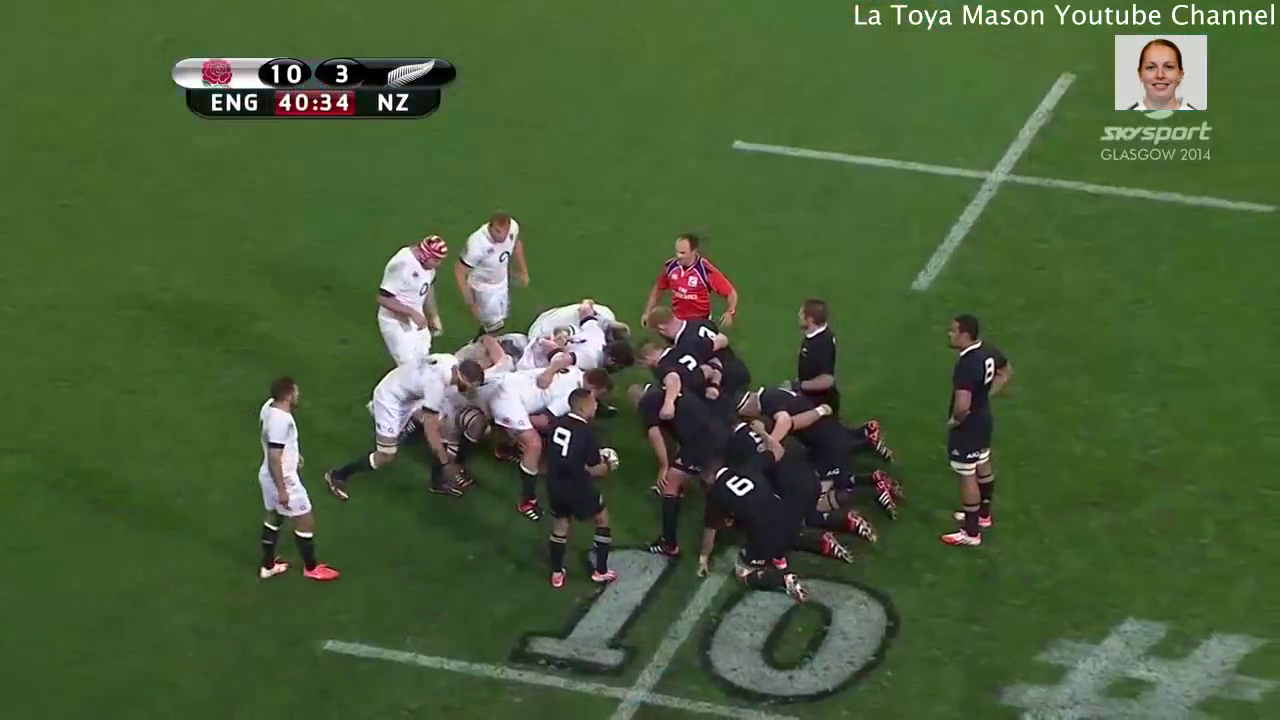10_metre: (702, 53, 1280, 312), (318, 532, 948, 720)
ball: (587, 436, 630, 484)
player: (316, 337, 487, 508), (456, 355, 612, 524), (238, 368, 348, 590), (930, 310, 1022, 557), (527, 378, 631, 592), (685, 452, 813, 606), (613, 372, 724, 548), (365, 229, 453, 381), (771, 284, 863, 429), (438, 203, 531, 345), (627, 219, 746, 329), (626, 331, 718, 417), (512, 322, 630, 388), (646, 304, 733, 362), (528, 295, 627, 337)
scrum: (317, 279, 881, 575)
